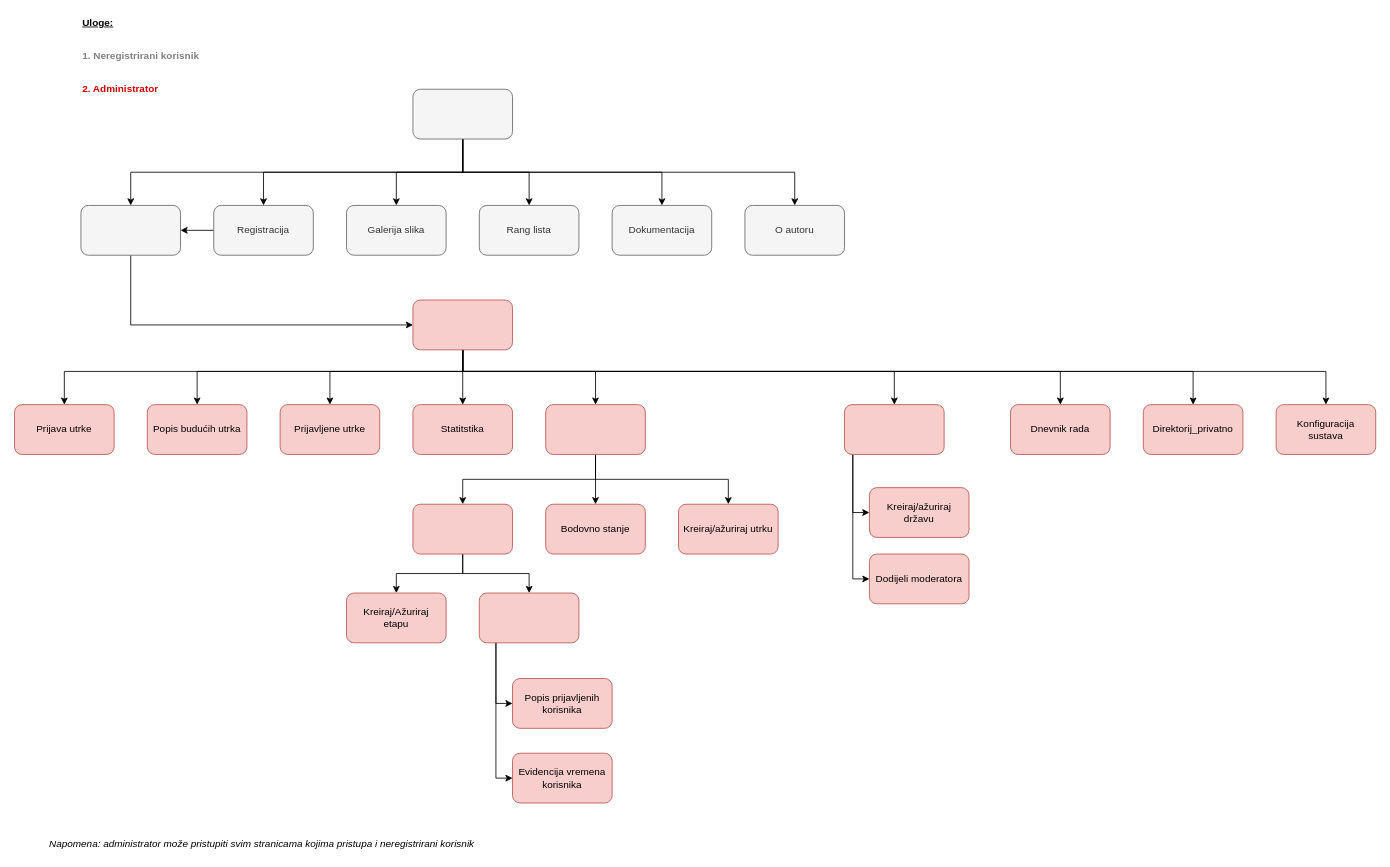
Some shapes in this 1390 by 867 pixel diagram are drawn without their labels. Each missing label, with the centre of its shape:
Etapa: the point at 528,617
Etape: the point at 462,528
Popis država: the point at 894,429
Popis svih utrka: the point at 595,429
Početna (administrator): the point at 462,324
Početna (neprijavljeni korisnik): the point at 462,113
Prijava: the point at 130,230
